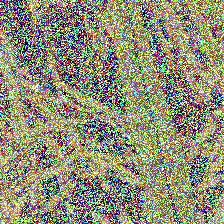Bacterial_Leaf_Blight: (165, 151, 178, 168)
